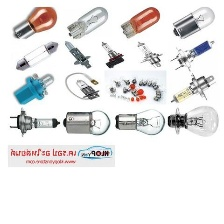light_bulb: (165, 103, 220, 139), (166, 72, 217, 107), (7, 106, 61, 137), (12, 5, 58, 40), (12, 71, 59, 105), (14, 38, 61, 72), (170, 5, 216, 39), (113, 108, 166, 137), (66, 5, 110, 39), (119, 5, 162, 39), (173, 38, 218, 70), (62, 108, 113, 135), (63, 40, 92, 70), (134, 39, 162, 66), (99, 38, 124, 68), (72, 77, 101, 102)
